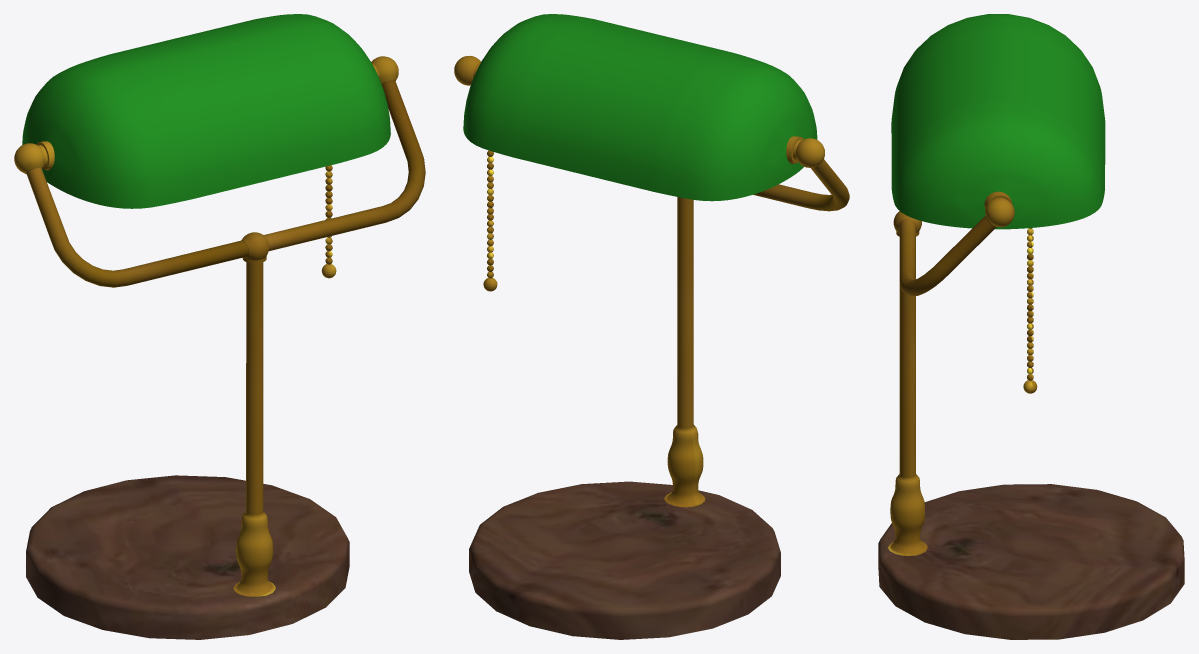
File: bankers_lamp.glb
3 renders of one model, left to right at view 1: azimuth 30°, elevation 25°; view 2: azimuth 150°, elevation 25°; view 3: azimuth 270°, elevation 25°, orthographic. The views are drawn at different scales.
Parts seen in each view (by area): view 1: Object_4, Object_3, Object_6; view 2: Object_4, Object_3, Object_6; view 3: Object_4, Object_3, Object_6.
Boxes of the visible parts, x1,y1,x2,y2 form: Object_4: [22, 14, 390, 208]; Object_3: [26, 475, 349, 639]; Object_6: [14, 56, 425, 596]; Object_4: [463, 14, 817, 201]; Object_3: [469, 481, 780, 639]; Object_6: [454, 55, 849, 507]; Object_4: [891, 14, 1105, 229]; Object_3: [878, 484, 1184, 639]; Object_6: [888, 191, 1037, 555].
Size of the model in its own units: 11.04 by 14.89 by 8.07.
Materials: 5 (2 with a texture image).
